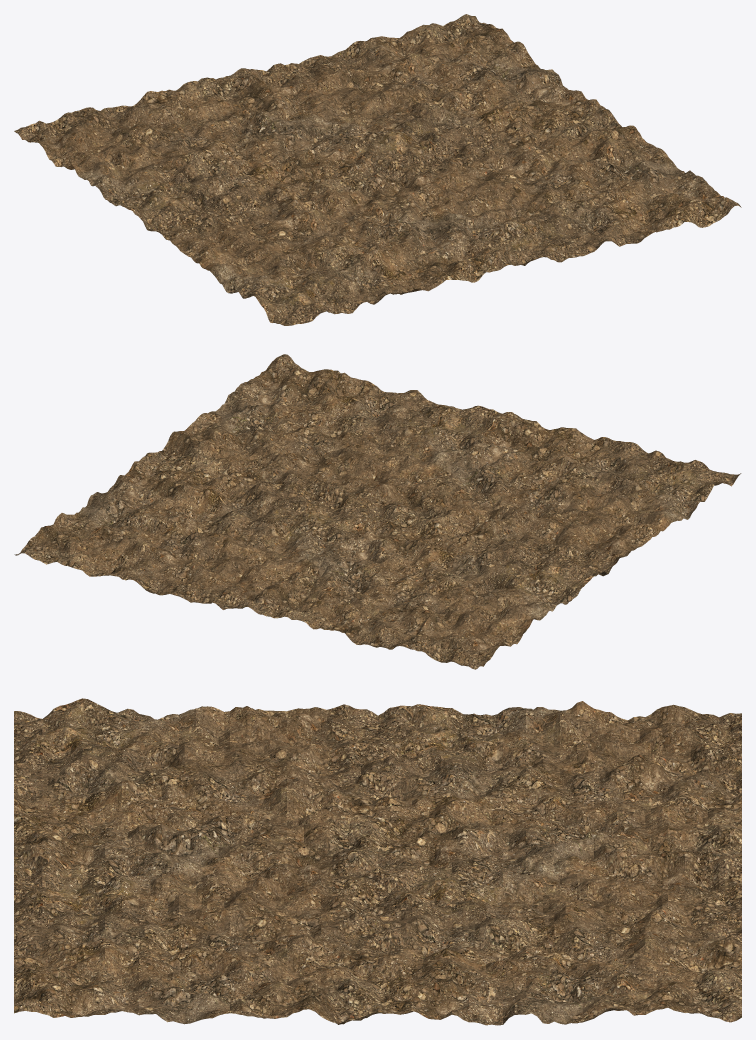
The model's file is dirt2 1.fbx.
The picture shows the model from 3 angles, top to bottom: view 1: azimuth 30°, elevation 25°; view 2: azimuth 150°, elevation 25°; view 3: azimuth 270°, elevation 25°; orthographic projection. The views are drawn at different scales.
Parts seen in each view (by area): view 1: Plane; view 2: Plane; view 3: Plane.
Part boxes in pixels (x1,y1,x2,y2): Plane: (14,14,741,325); Plane: (14,354,741,669); Plane: (14,698,741,1025).
Bounding box in the file's own units: 1000 × 48.15 × 1000.
1 material, 1 textured.
